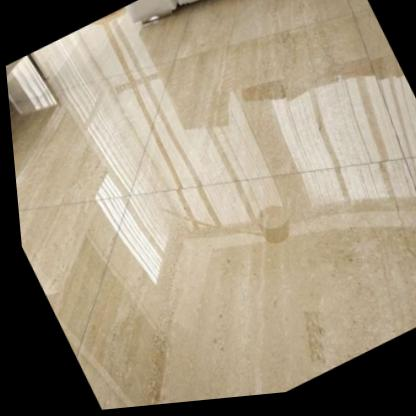Ceramic floor: (5, 0, 416, 411)
